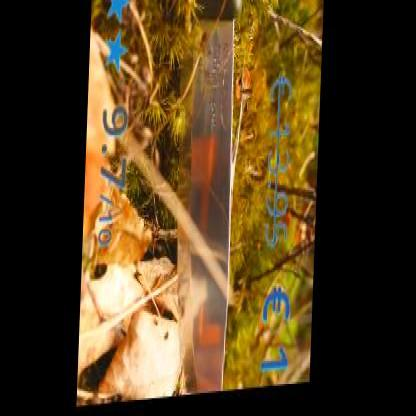knife: (178, 0, 250, 398)
